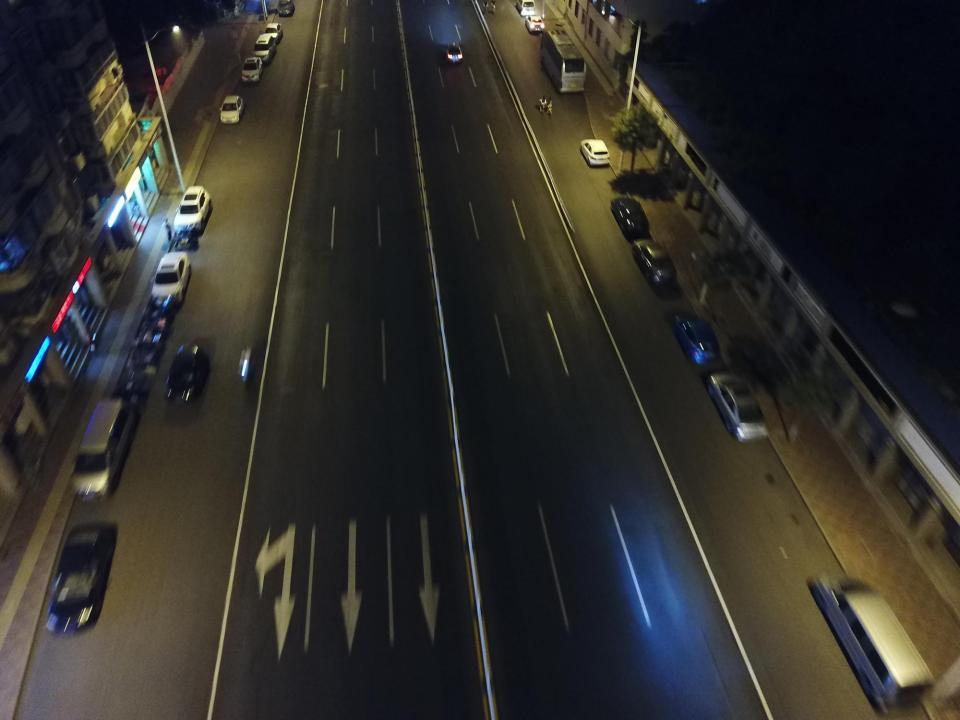bus: (540, 27, 588, 94)
car: (44, 522, 118, 635), (709, 370, 770, 443), (166, 344, 210, 402), (674, 311, 718, 365), (635, 238, 676, 290), (152, 251, 192, 303), (174, 184, 212, 233), (611, 195, 649, 238), (580, 138, 610, 166), (218, 93, 244, 123), (253, 34, 276, 63), (242, 56, 262, 82), (445, 43, 463, 63), (526, 14, 546, 30), (264, 22, 283, 38), (277, 0, 294, 15)
van: (810, 570, 934, 714), (70, 397, 136, 501), (515, 0, 535, 16)
